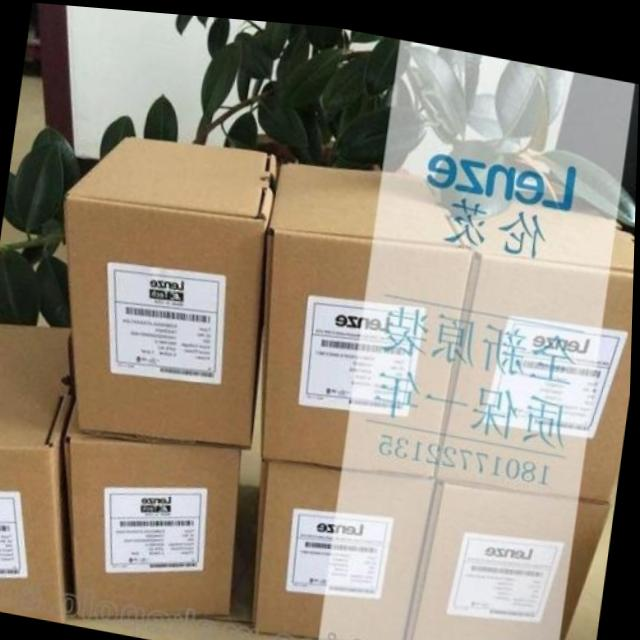box: (63, 133, 276, 447), (262, 156, 473, 468), (440, 179, 636, 493), (68, 399, 243, 615), (255, 453, 438, 639), (409, 474, 612, 640), (0, 323, 76, 623)
